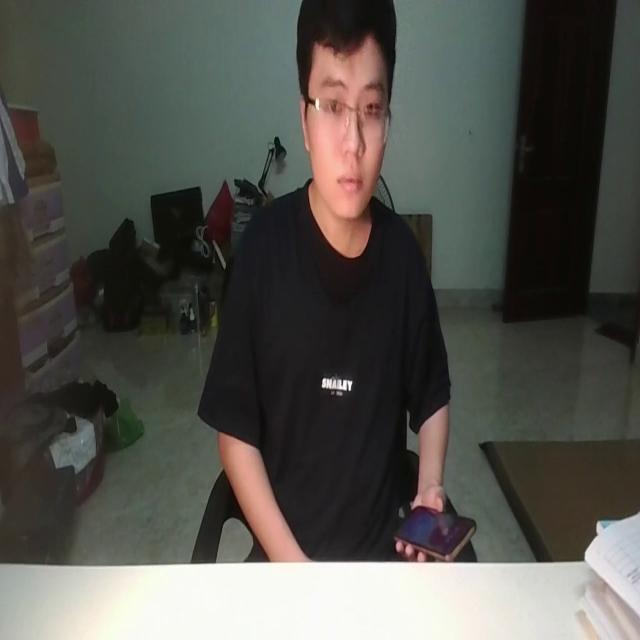phone: (385, 496, 476, 556)
student: (200, 0, 452, 565)
